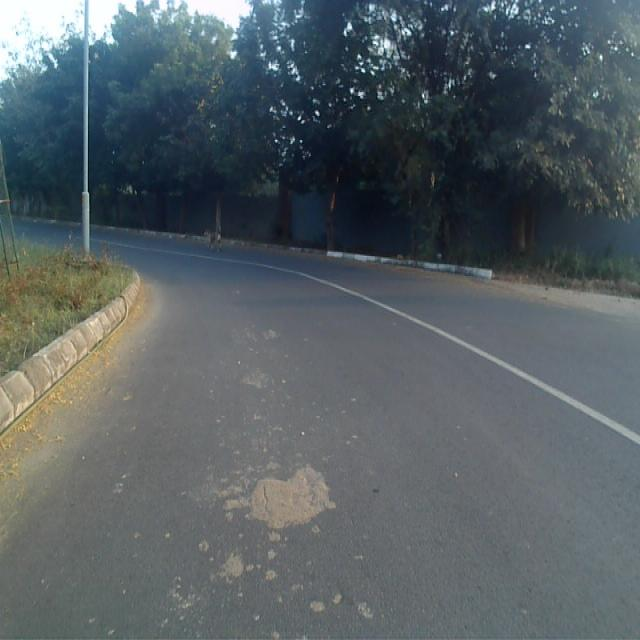lane: (0, 233, 640, 640)
